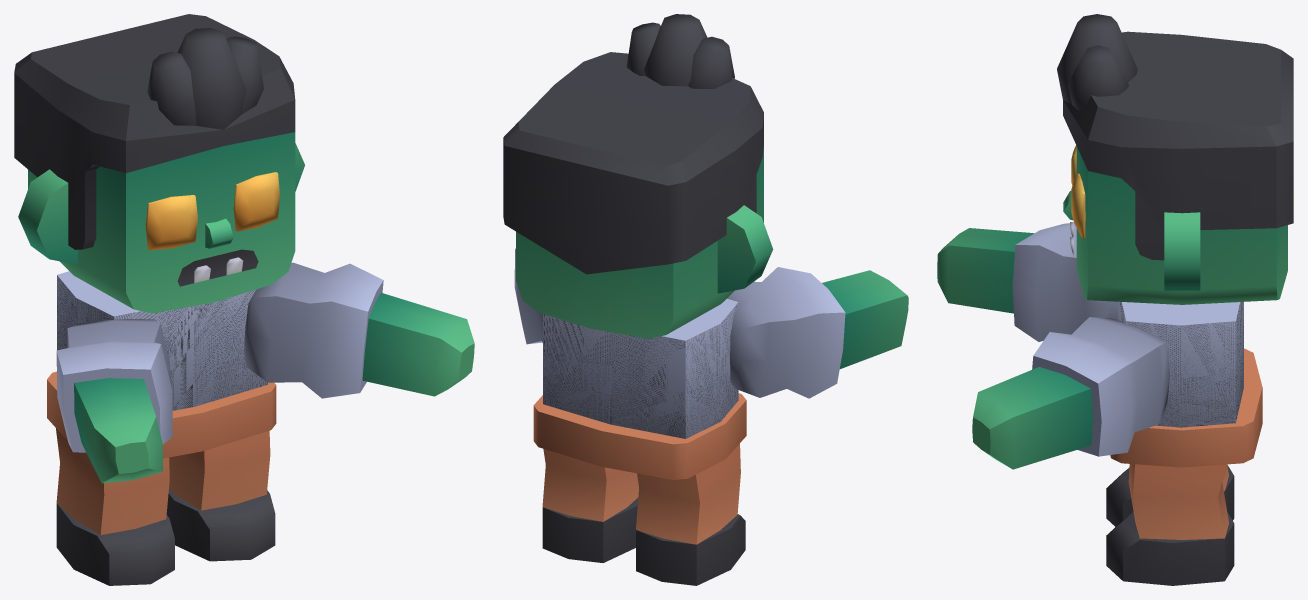
Rendered from character-zombie-handsout.glb.
3 renders of one model, left to right at view 1: azimuth 30°, elevation 25°; view 2: azimuth 150°, elevation 25°; view 3: azimuth 270°, elevation 25°, orthographic. The views are drawn at different scales.
Visible parts, largest first — view 1: head, arm-left, torso, arm-right, leg-right, leg-left; view 2: head, torso, arm-right, leg-right, leg-left, arm-left; view 3: head, arm-left, torso, arm-right, leg-left, leg-right.
Part boxes in pixels (box(x1,y1,x2,y2)): head: box(14, 14, 304, 313); arm-left: box(244, 262, 474, 398); torso: box(47, 271, 276, 458); arm-right: box(56, 319, 172, 483); leg-right: box(56, 428, 174, 585); leg-left: box(166, 430, 275, 561); head: box(503, 14, 773, 338); torso: box(533, 298, 746, 479); arm-right: box(727, 267, 908, 398); leg-right: box(636, 443, 745, 585); leg-left: box(542, 449, 638, 562); arm-left: box(514, 248, 542, 344); head: box(1057, 14, 1293, 304); arm-left: box(972, 317, 1169, 469); torso: box(1110, 301, 1262, 467); arm-right: box(937, 223, 1117, 341); leg-left: box(1106, 464, 1234, 585); leg-right: box(1106, 464, 1234, 526).
Bounding box in the file's own units: 12.82 × 16.73 × 10.4.
Materials: 1 (1 with a texture image).
